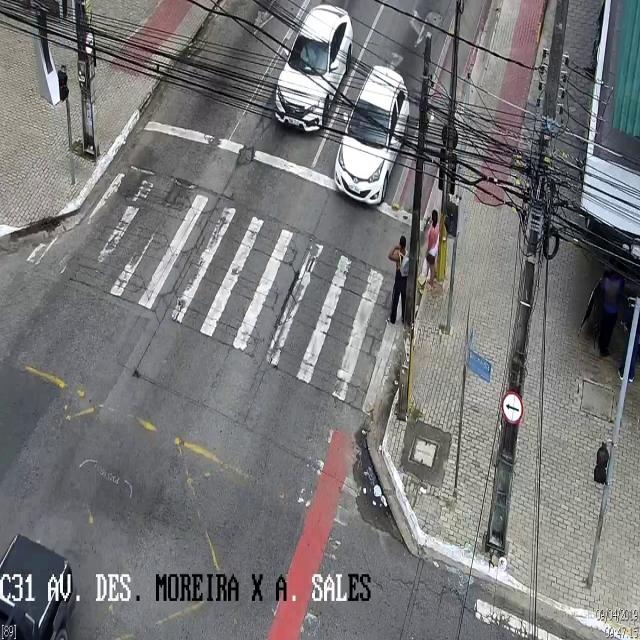Car: (334, 65, 412, 203), (276, 3, 354, 133), (0, 525, 84, 640)
